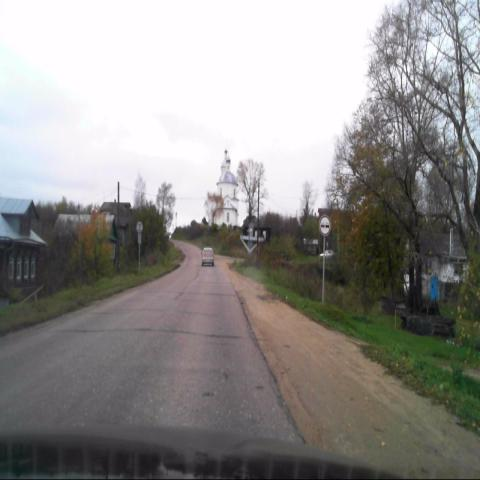3_20: (318, 214, 332, 237)
